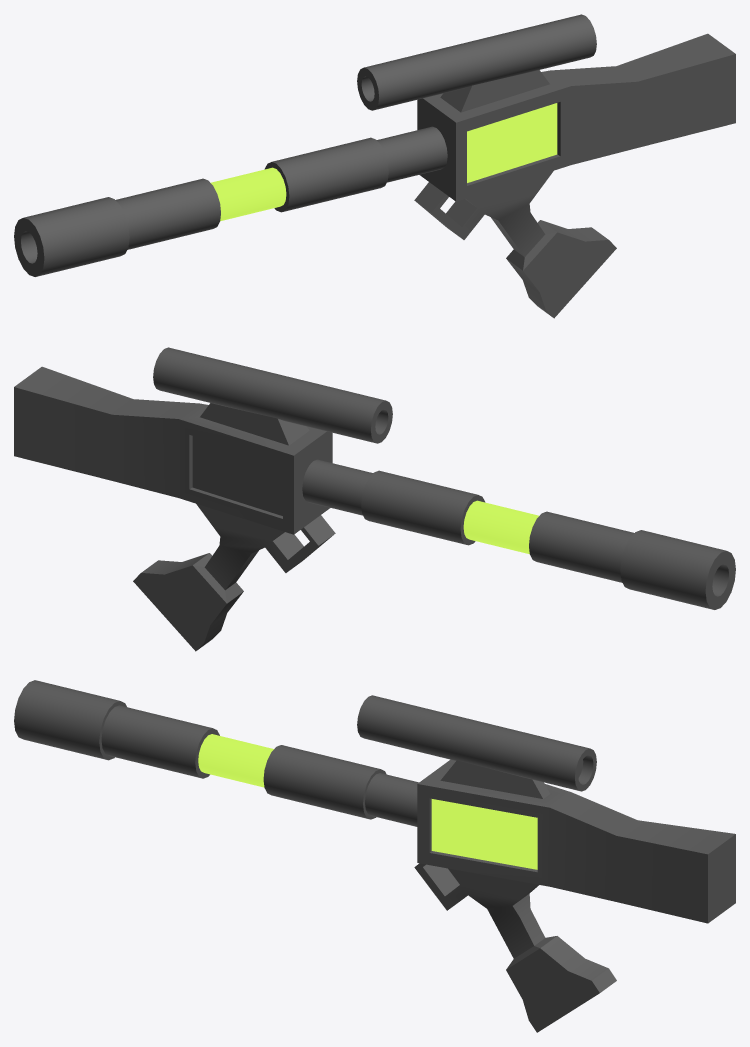
Rendered from weapon_001.gltf.
The picture shows the model from 3 angles, top to bottom: view 1: azimuth 30°, elevation 25°; view 2: azimuth 150°, elevation 25°; view 3: azimuth 330°, elevation 25°; orthographic projection.
Parts seen in each view (by area): view 1: weapon.001; view 2: weapon.001; view 3: weapon.001.
Part boxes in pixels (bbox=[...]): weapon.001: bbox=[14, 14, 735, 318]; weapon.001: bbox=[14, 347, 735, 651]; weapon.001: bbox=[14, 680, 735, 1032].
Bounding box in the file's own units: 1.22 × 0.4809 × 0.1181.
